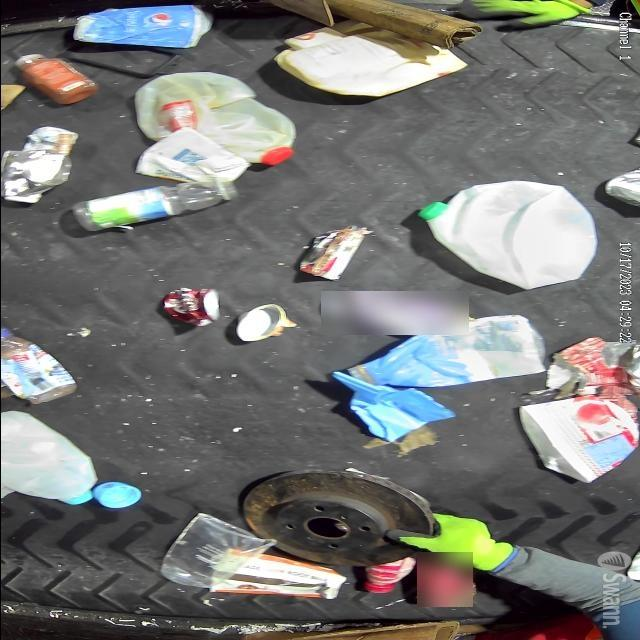milk_jug: (418, 181, 598, 289), (132, 73, 297, 169), (0, 410, 99, 508)
plastic_bottle: (69, 182, 236, 232), (1, 326, 76, 406)
